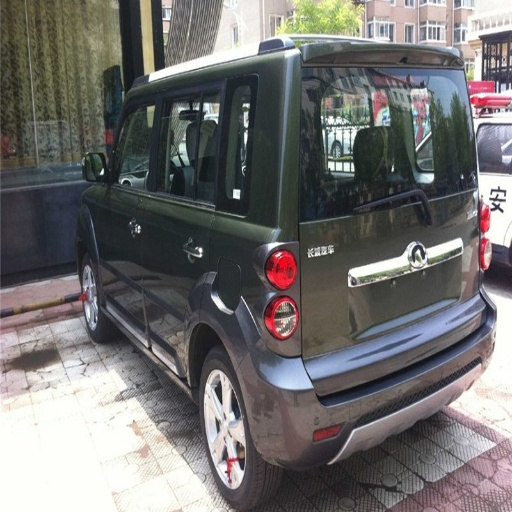back_bumper: (243, 317, 494, 469)
back_glass: (302, 161, 390, 214)
back_left_door: (145, 134, 242, 369)
tailgate: (408, 73, 457, 152)
trunk: (271, 195, 478, 395)
